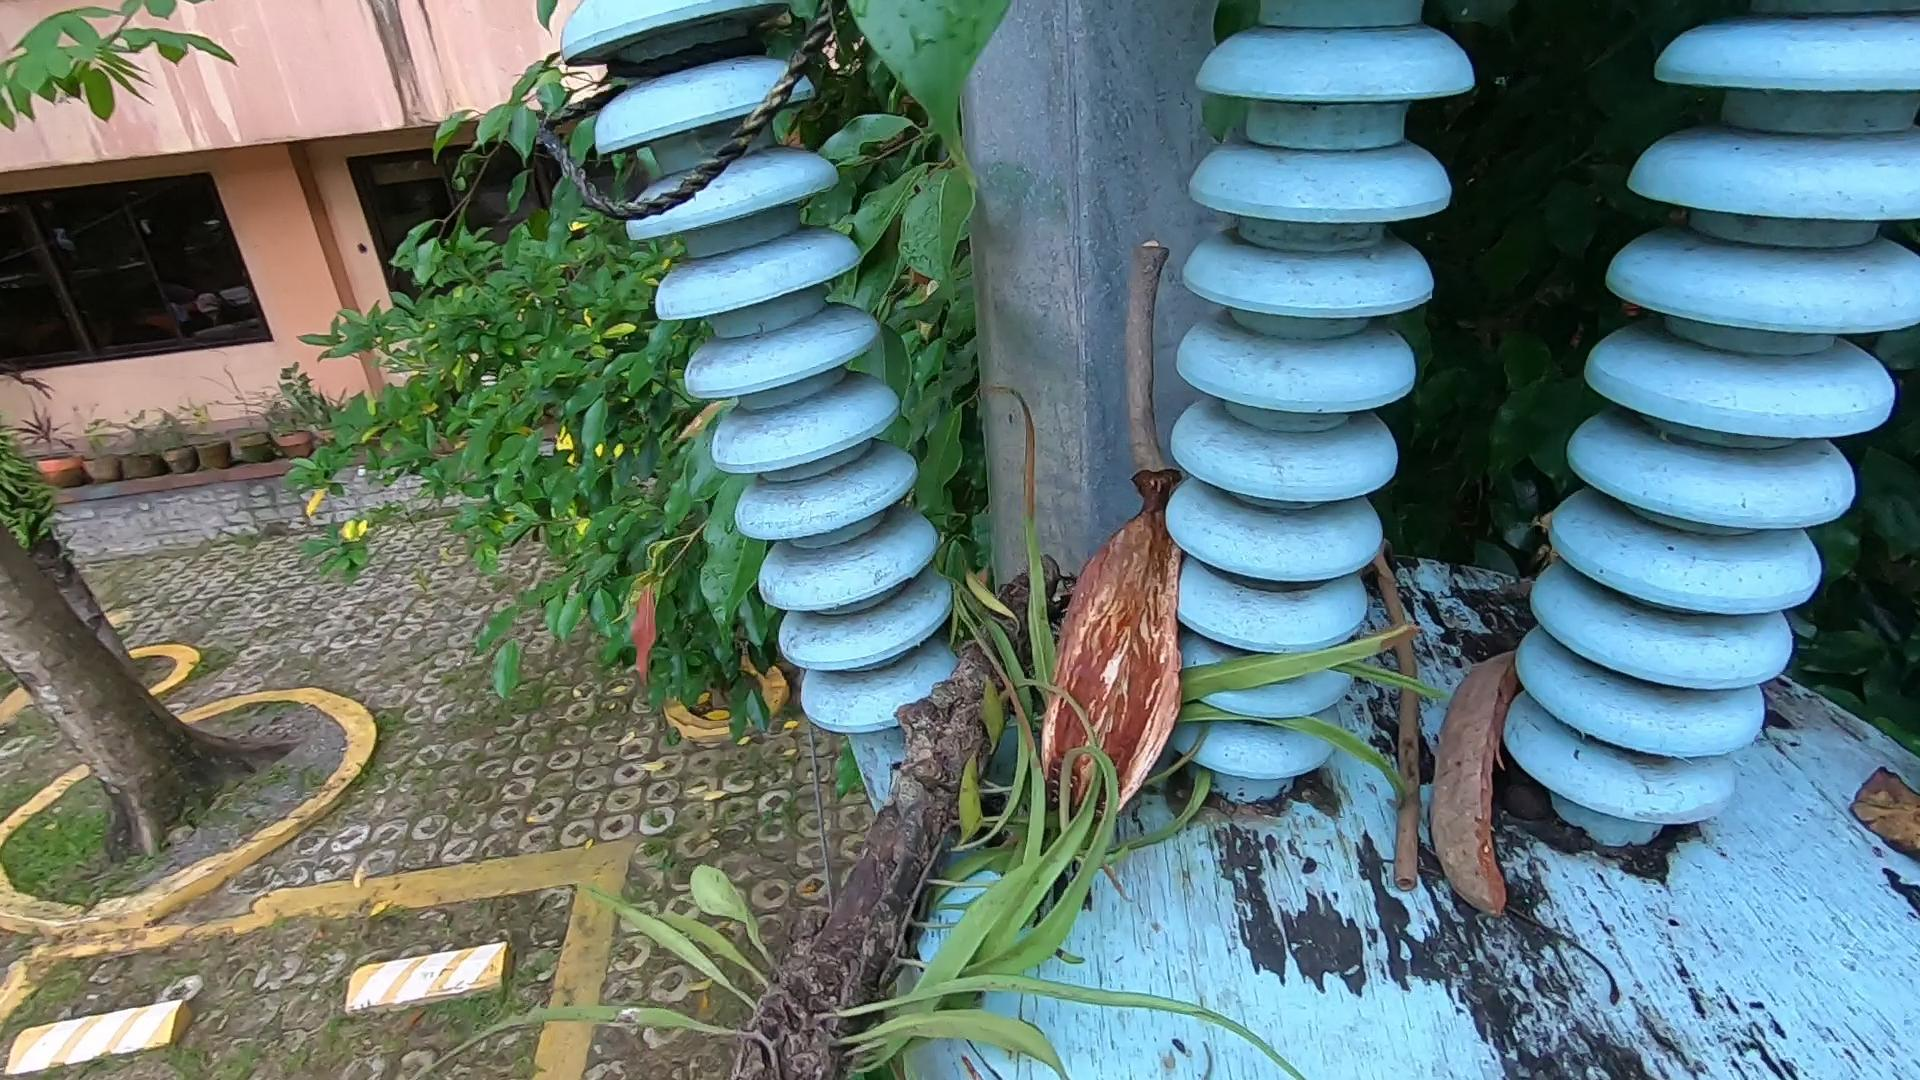branch with leaves: (491, 369, 1440, 1080)
leaf: (1840, 760, 1920, 855)
mahogany fruit: (1033, 433, 1284, 924), (1424, 630, 1516, 911)
tree branch: (1349, 526, 1449, 890), (1110, 233, 1191, 501)
